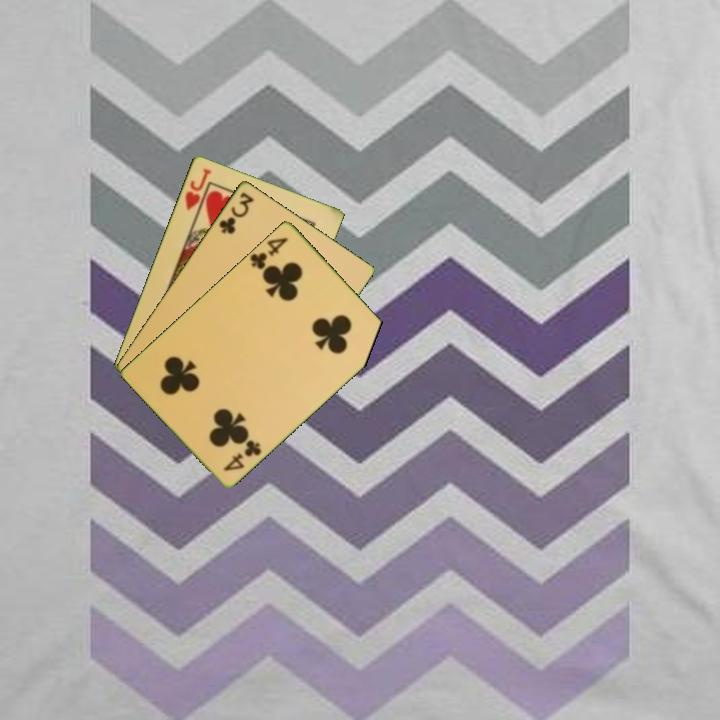3c: (215, 188, 257, 237)
4c: (246, 233, 291, 272), (219, 436, 265, 474)
Jh: (181, 164, 214, 220)
